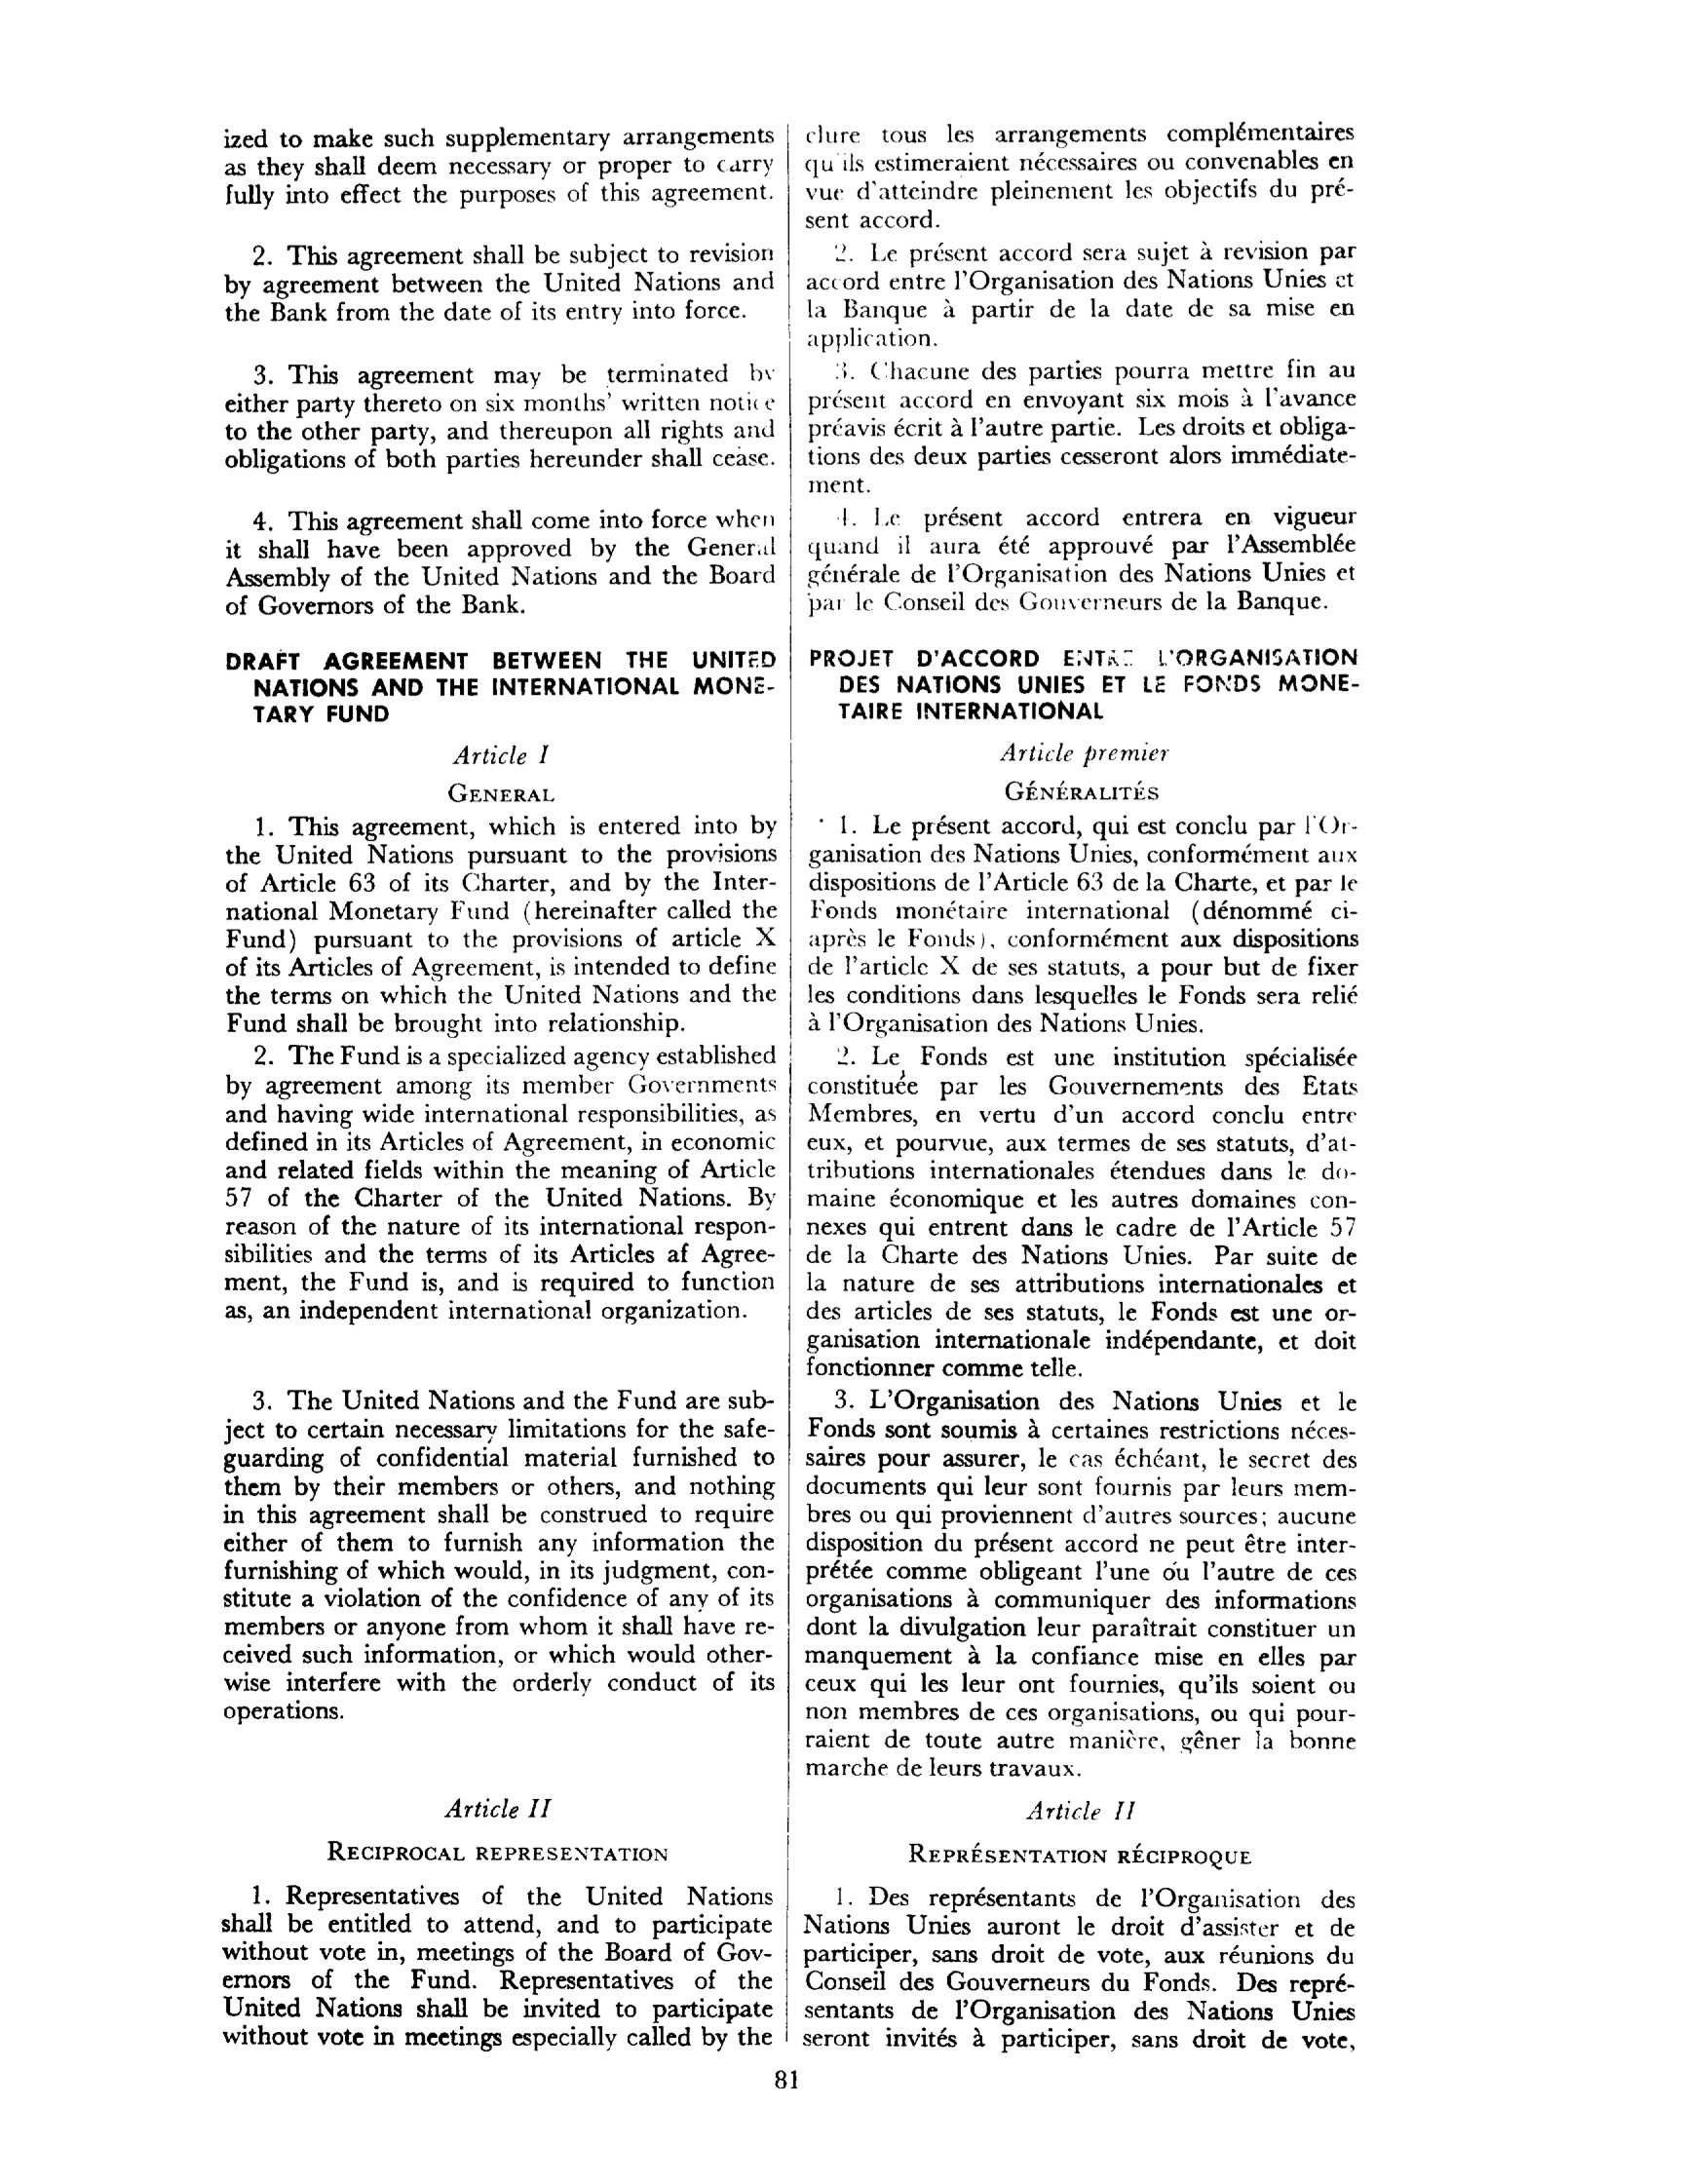MainZone-Continued: (797, 117, 1360, 234), (211, 116, 779, 216)
MainZone-Head: (802, 637, 1367, 727), (218, 642, 780, 730), (900, 1837, 1259, 1875), (317, 1835, 674, 1869), (991, 735, 1178, 770), (995, 771, 1170, 808), (438, 1785, 561, 1829), (1016, 1792, 1143, 1831), (443, 737, 562, 774), (440, 775, 562, 809)
MainZone-ListItem: (801, 1383, 1370, 1786), (217, 1381, 781, 1730), (803, 1039, 1368, 1384), (218, 1039, 784, 1330), (804, 807, 1365, 1038), (218, 810, 784, 1038), (797, 1879, 1364, 2061), (214, 1877, 778, 2056), (802, 353, 1363, 499), (213, 354, 783, 482), (803, 497, 1366, 619), (216, 501, 784, 621), (800, 236, 1363, 352), (212, 234, 782, 335)
NumberingZone: (770, 2065, 801, 2098)
